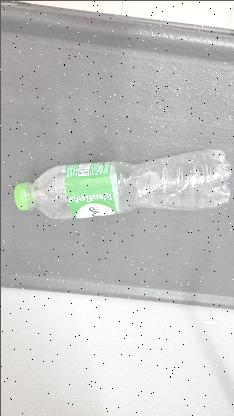Plastic Bottle: (5, 144, 230, 222)
